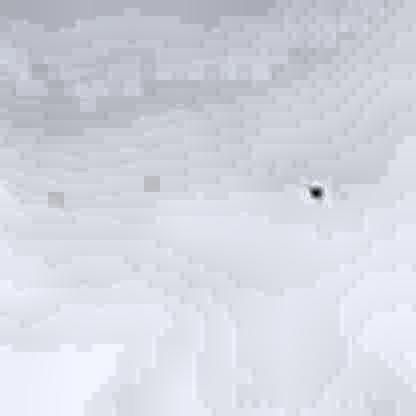golfball: (308, 185, 319, 195)
